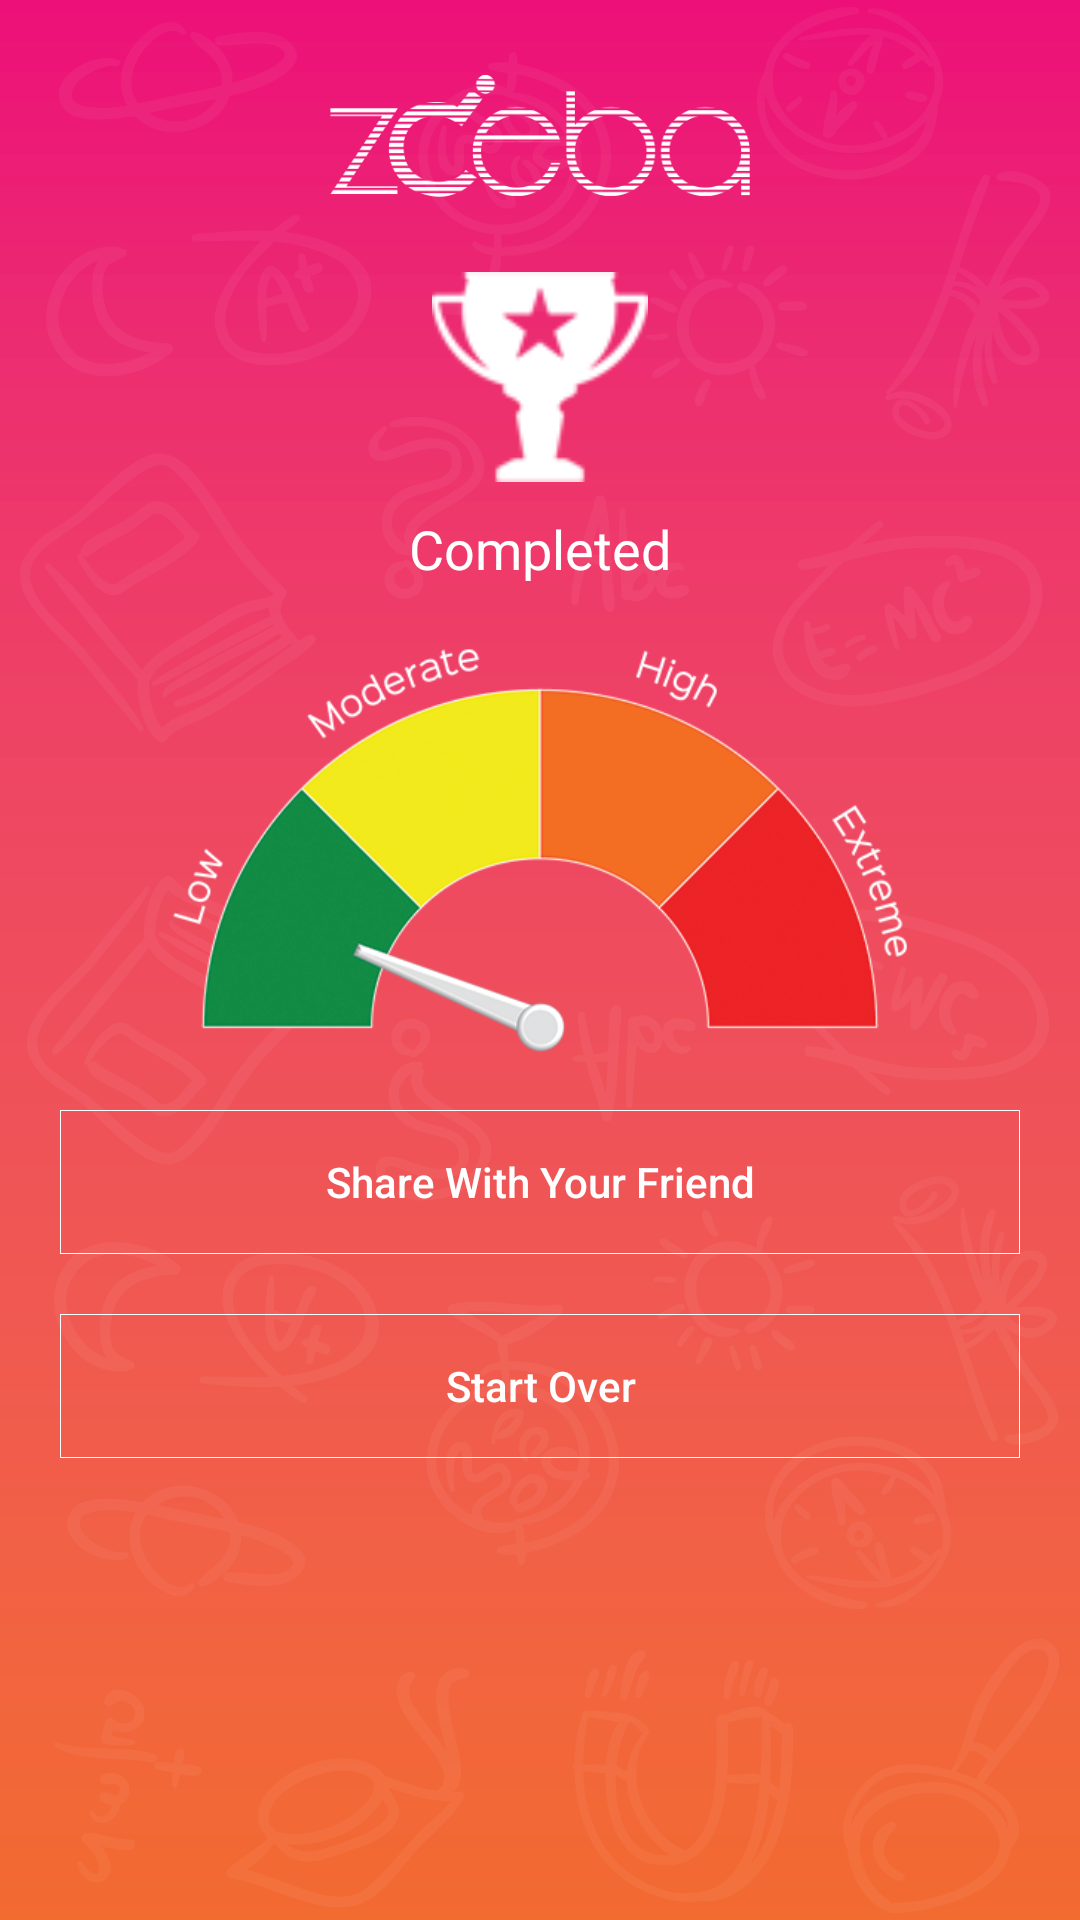

Icons on this 1080w x 1920h Android screen, each with the point to tap as (x,y):
trophy: (540,377)
